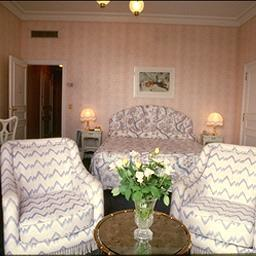Cama: (103, 105, 202, 157)
